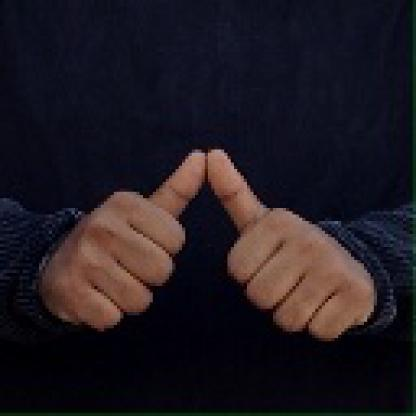A: (53, 145, 372, 352)
